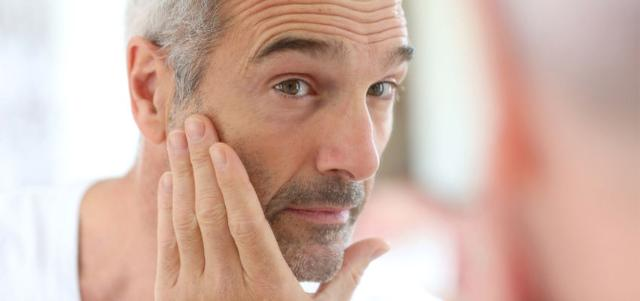forehead: (256, 5, 348, 35), (356, 8, 402, 38)
gummy_smile: (276, 152, 310, 186)
